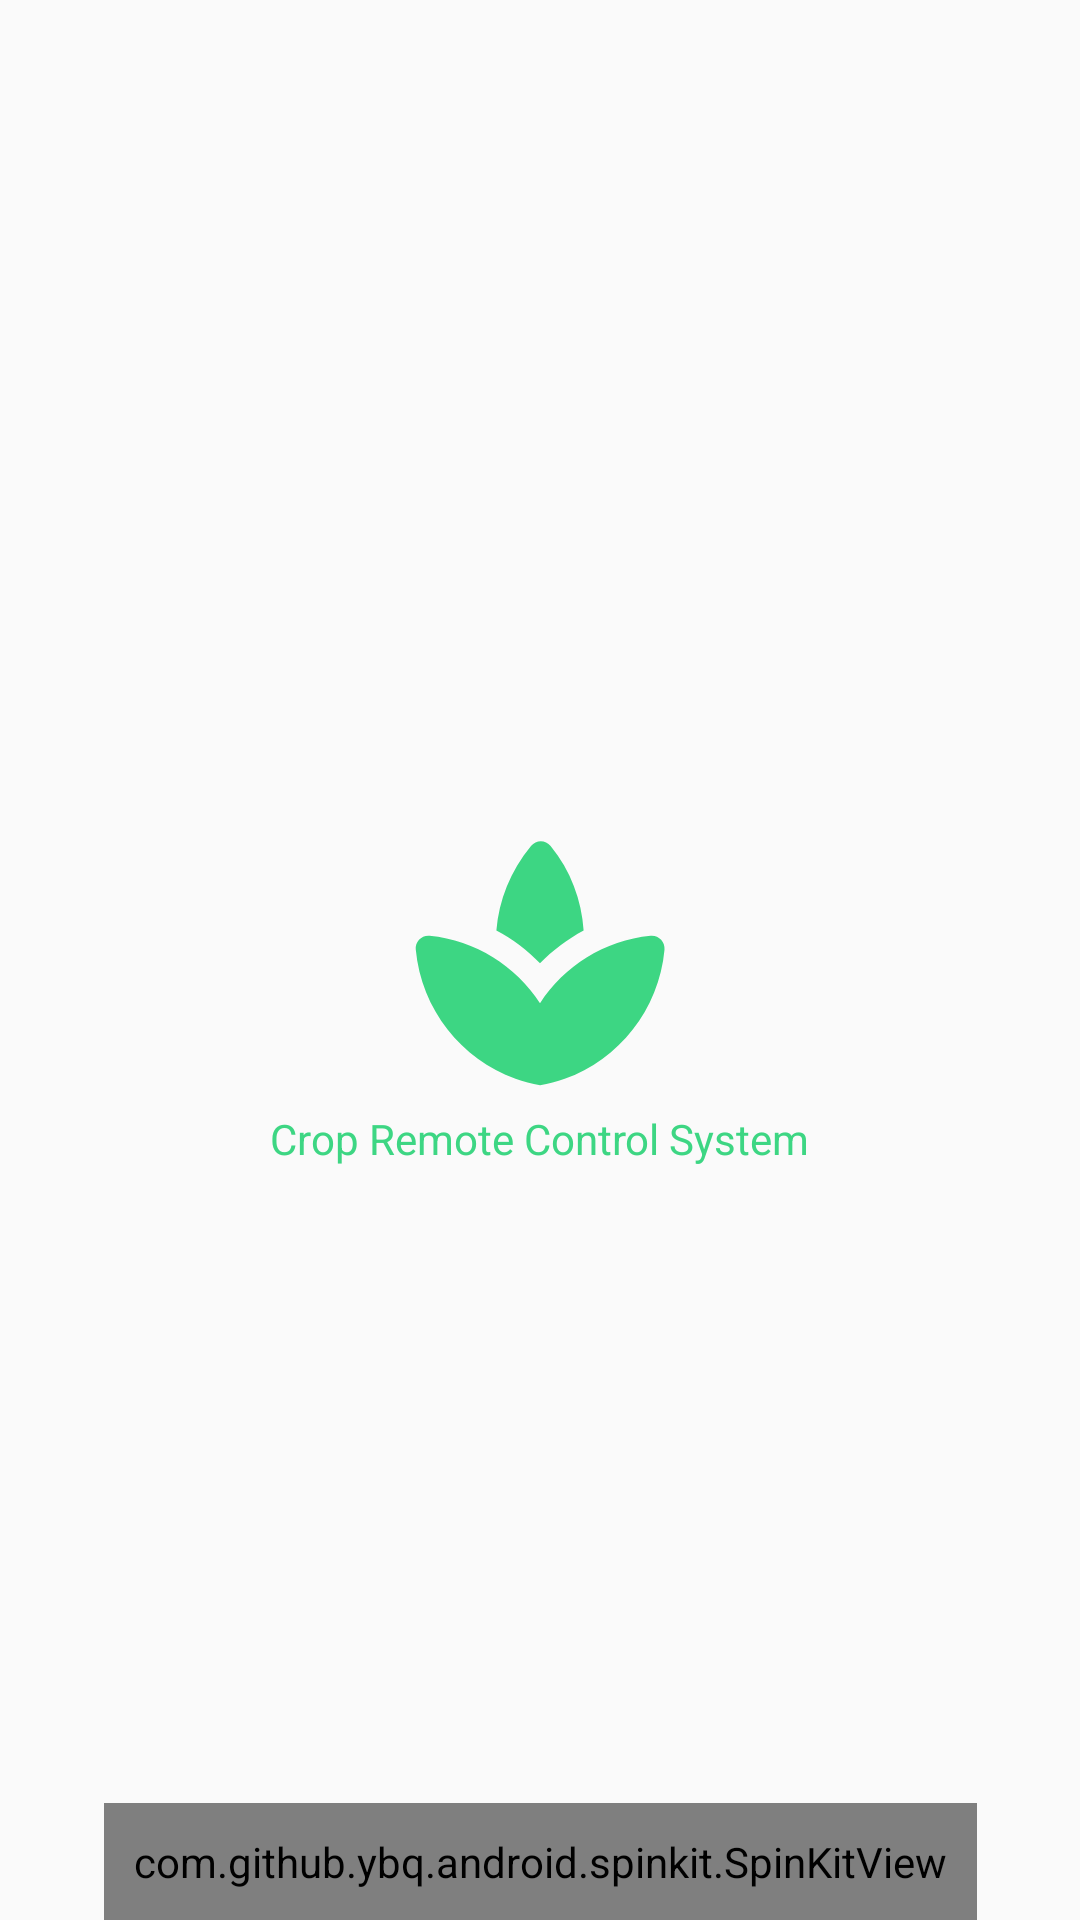

Named icons in this screenshot (1080x1920) and their bounding boxes, (x1, y1, x2, y2):
spa: (415, 841, 665, 1086)
